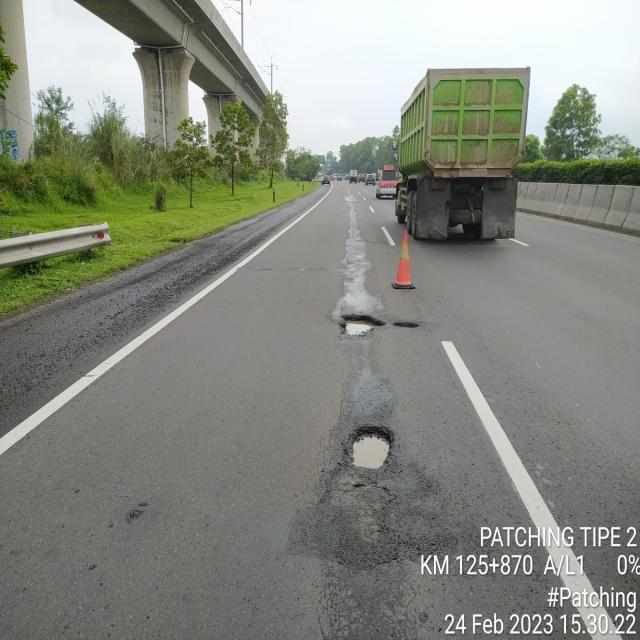Buraco: (339, 423, 399, 476), (337, 312, 388, 339), (390, 320, 422, 330)
